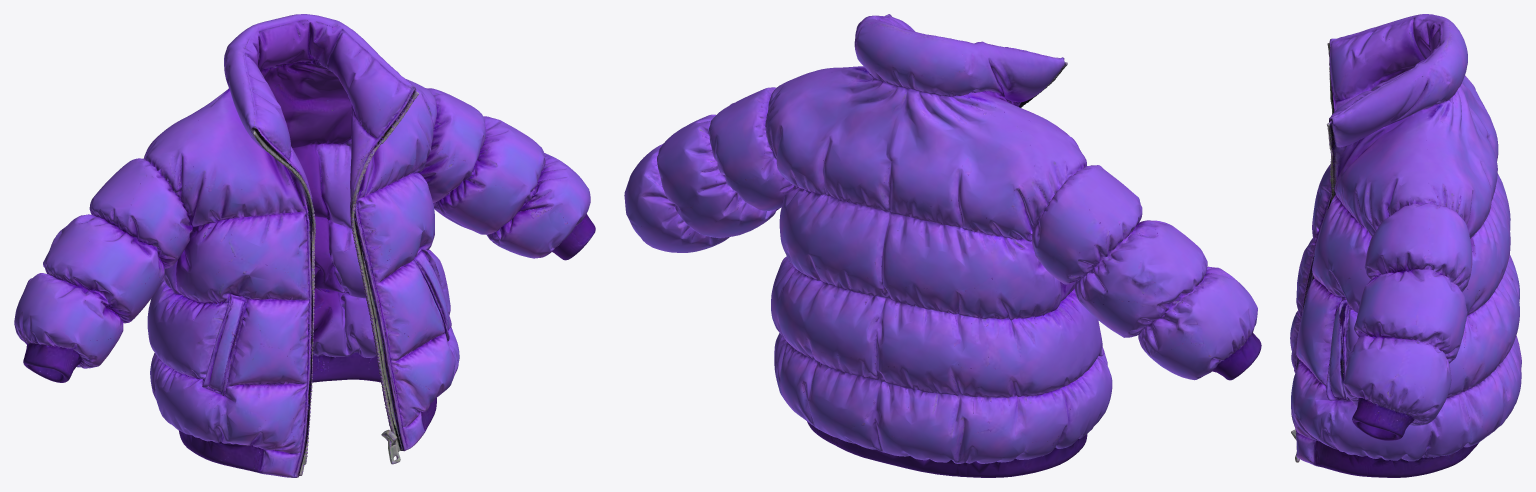
Rendered from puffer-purple-lumi.glb.
3 renders of one model, left to right at view 1: azimuth 30°, elevation 25°; view 2: azimuth 150°, elevation 25°; view 3: azimuth 270°, elevation 25°, orthographic. The views are drawn at different scales.
Size of the model in its own units: 1.9 by 1.29 by 0.6653.
Materials: 1 (1 with a texture image).
